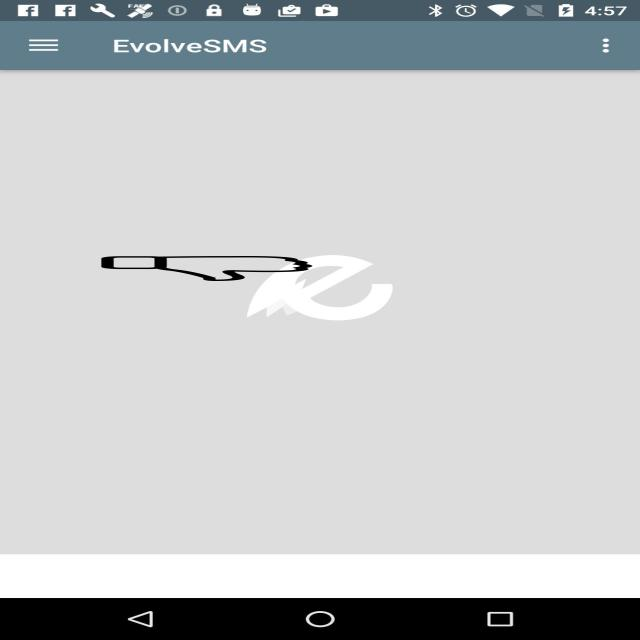obstruction: (98, 256, 316, 281)
